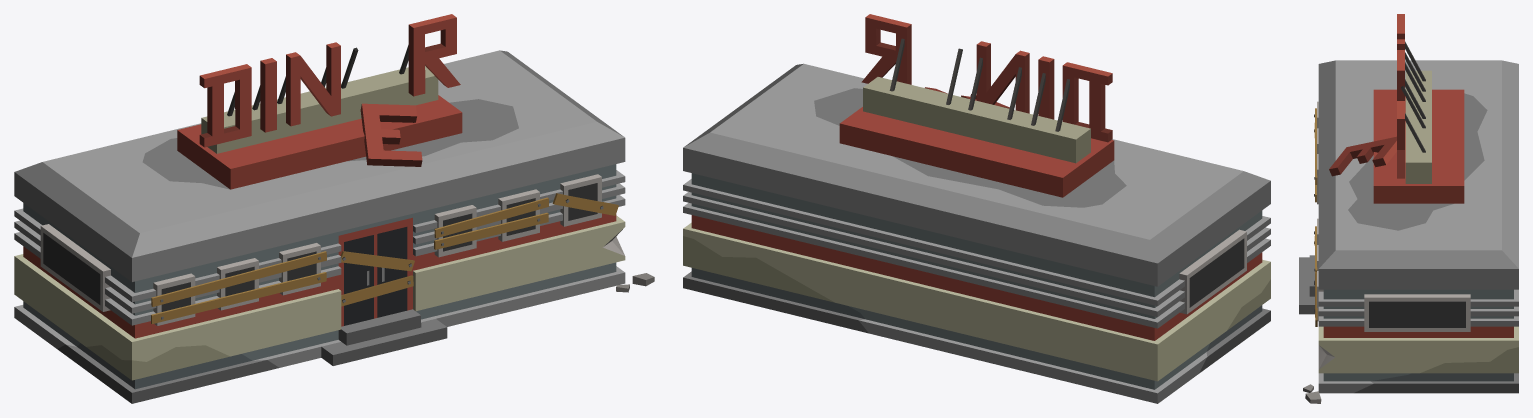
The model's file is SA_Bld_Diner_Damaged_01.glb.
3 renders of one model, left to right at view 1: azimuth 30°, elevation 25°; view 2: azimuth 150°, elevation 25°; view 3: azimuth 270°, elevation 25°, orthographic. The views are drawn at different scales.
Visible parts, largest first — view 1: SA_Bld_Diner_Damaged_01; view 2: SA_Bld_Diner_Damaged_01; view 3: SA_Bld_Diner_Damaged_01.
Part boxes in pixels (<box>): SA_Bld_Diner_Damaged_01: <box>14,14,654,403</box>; SA_Bld_Diner_Damaged_01: <box>683,14,1270,403</box>; SA_Bld_Diner_Damaged_01: <box>1299,14,1518,403</box>.
Size of the model in its own units: 10.21 by 4.96 by 4.39.
1 material, 1 textured.
